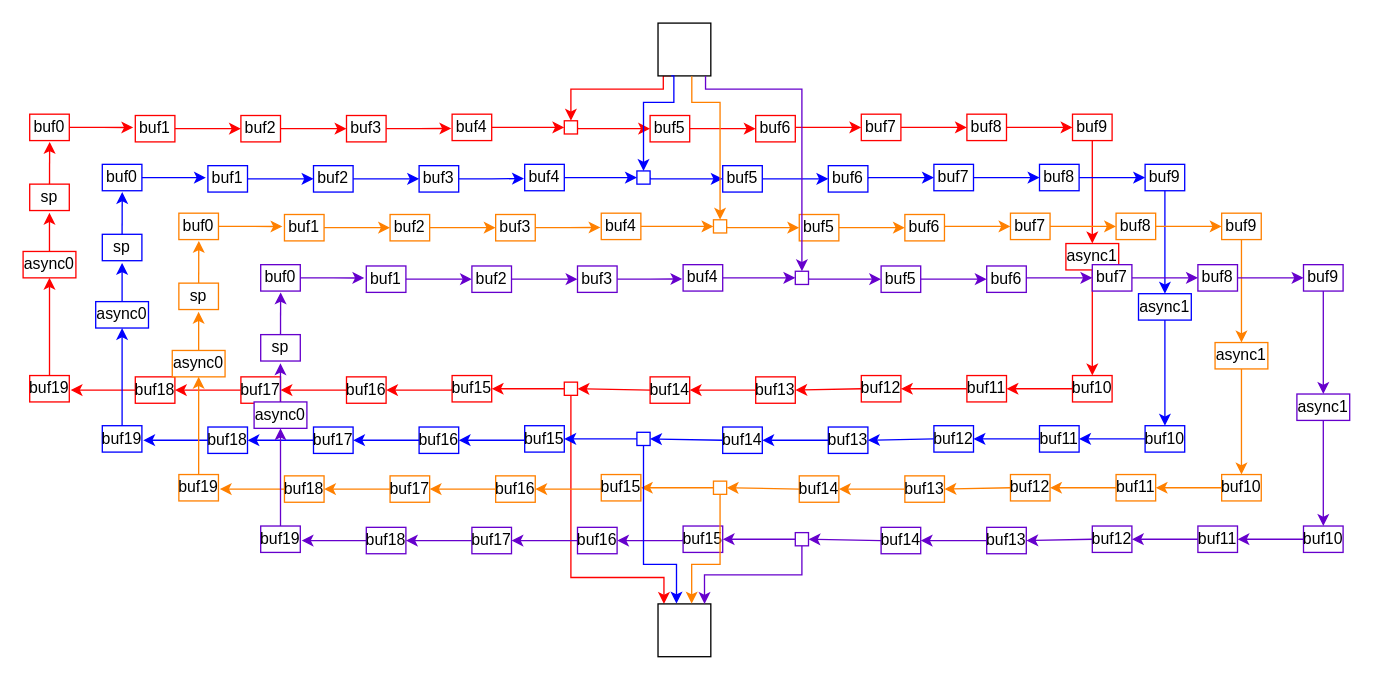
Some shapes in this 1373 by 680 pixel diagram are drawn without their labels. Here are the shapes that lost their labels. From the top down, the centre of each, then its label:
At (684,49): "NPU".
At (684,630): "OCM".
